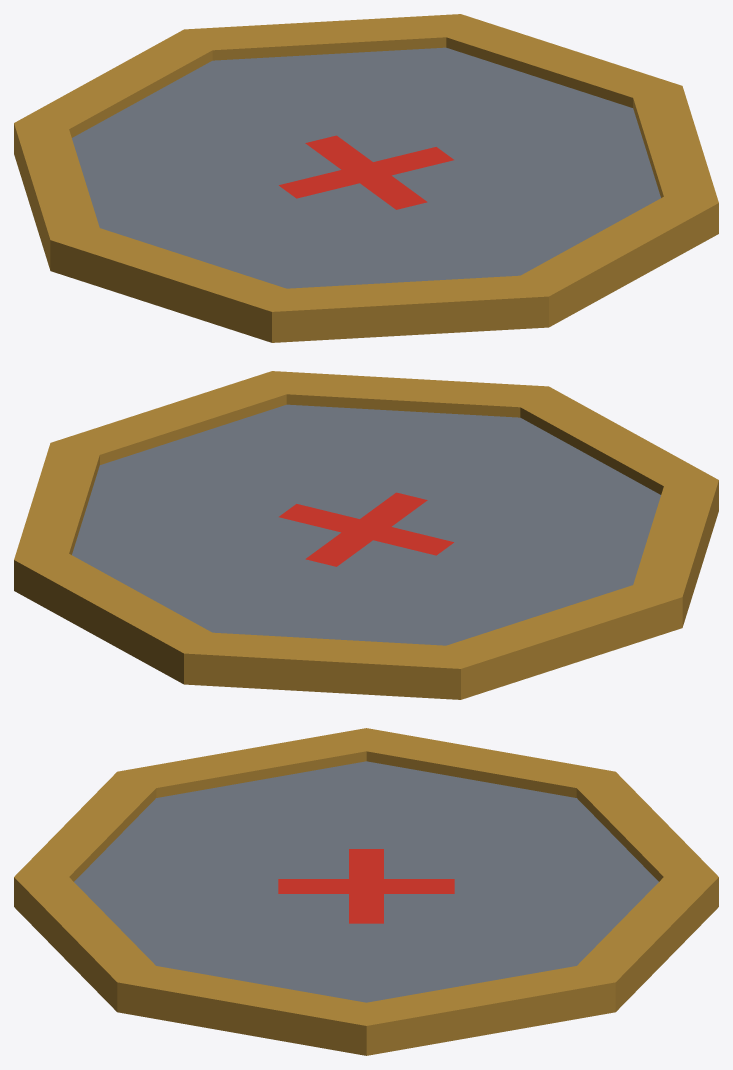
Rendered from pad.obj.
3 views of the same model, one above another, from view 1: azimuth 30°, elevation 25°; view 2: azimuth 150°, elevation 25°; view 3: azimuth 270°, elevation 25° (orthographic). The views are drawn at different scales.
Size of the model in its own units: 3.2 by 0.15 by 3.2.
